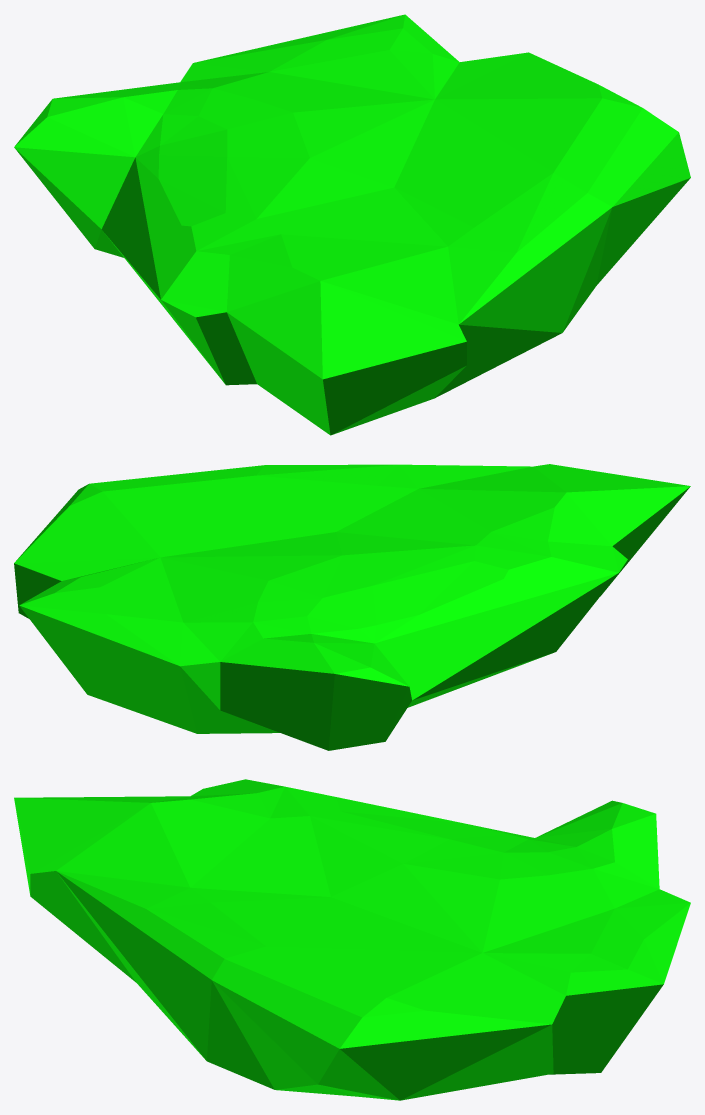
Rendered from SM_Iceberg_Small_C_Rock.fbx.
3 renders of one model, top to bottom at view 1: azimuth 30°, elevation 25°; view 2: azimuth 150°, elevation 25°; view 3: azimuth 270°, elevation 25°, orthographic. The views are drawn at different scales.
Parts seen in each view (by area): view 1: SM_Iceberg_Small_C_Rock; view 2: SM_Iceberg_Small_C_Rock; view 3: SM_Iceberg_Small_C_Rock.
Boxes of the visible parts, bbox=[...] form: SM_Iceberg_Small_C_Rock: bbox=[14, 14, 690, 435]; SM_Iceberg_Small_C_Rock: bbox=[14, 464, 690, 750]; SM_Iceberg_Small_C_Rock: bbox=[14, 779, 690, 1100].
Bounding box in the file's own units: 6.11 × 1.68 × 6.65.
